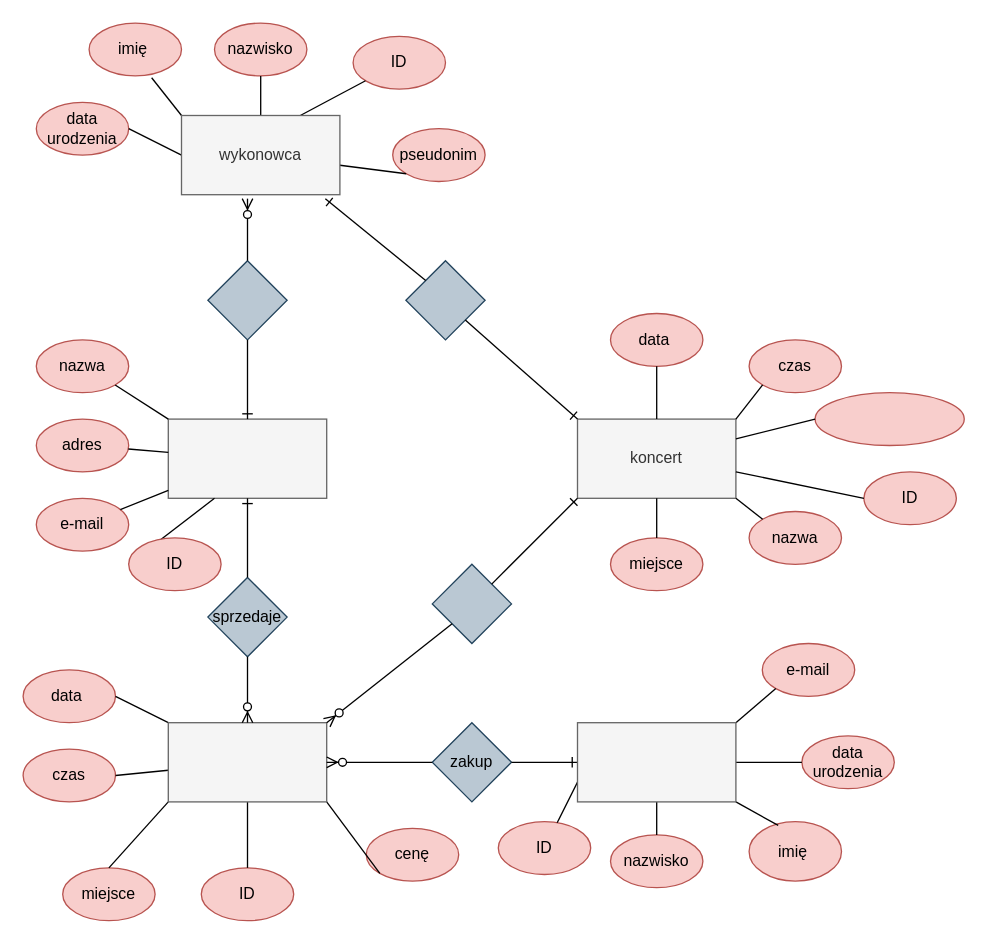
Image size: 987x944. Some labels were removed from this diagram. Each missing label, with the centre of its shape:
"agencja koncertowa" belongs at point (247, 458).
"bilet" belongs at point (247, 761).
"cena_koncertu" belongs at point (889, 418).
"klient" belongs at point (656, 761).
"posiada" belongs at point (471, 603).
"wykonuje" belongs at point (445, 299).
"zatrudnia" belongs at point (247, 299).
